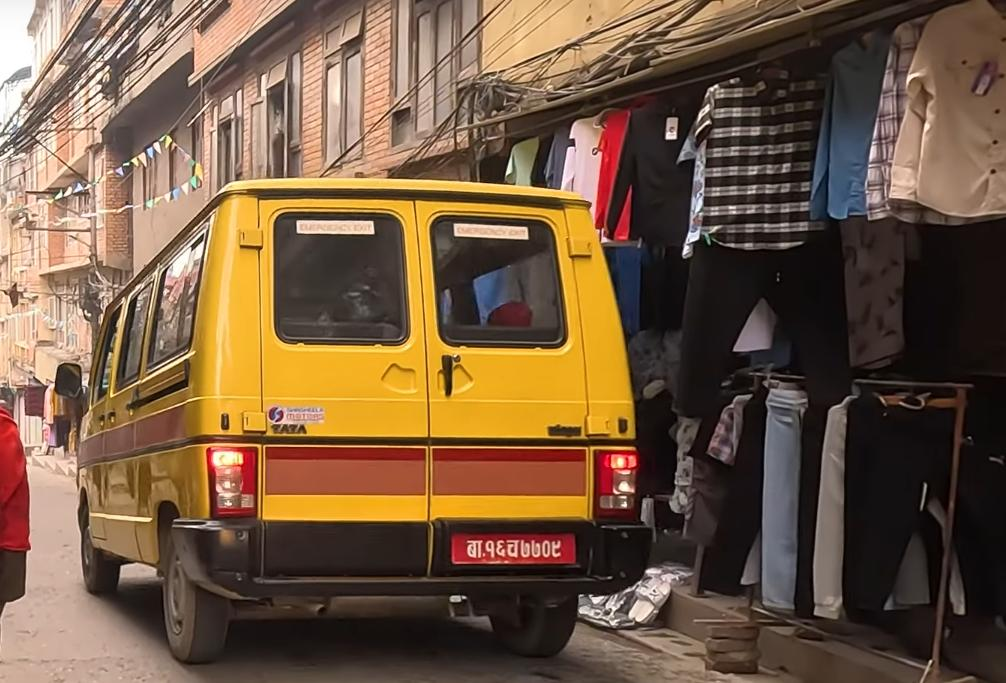school_bus: (39, 171, 655, 669)
